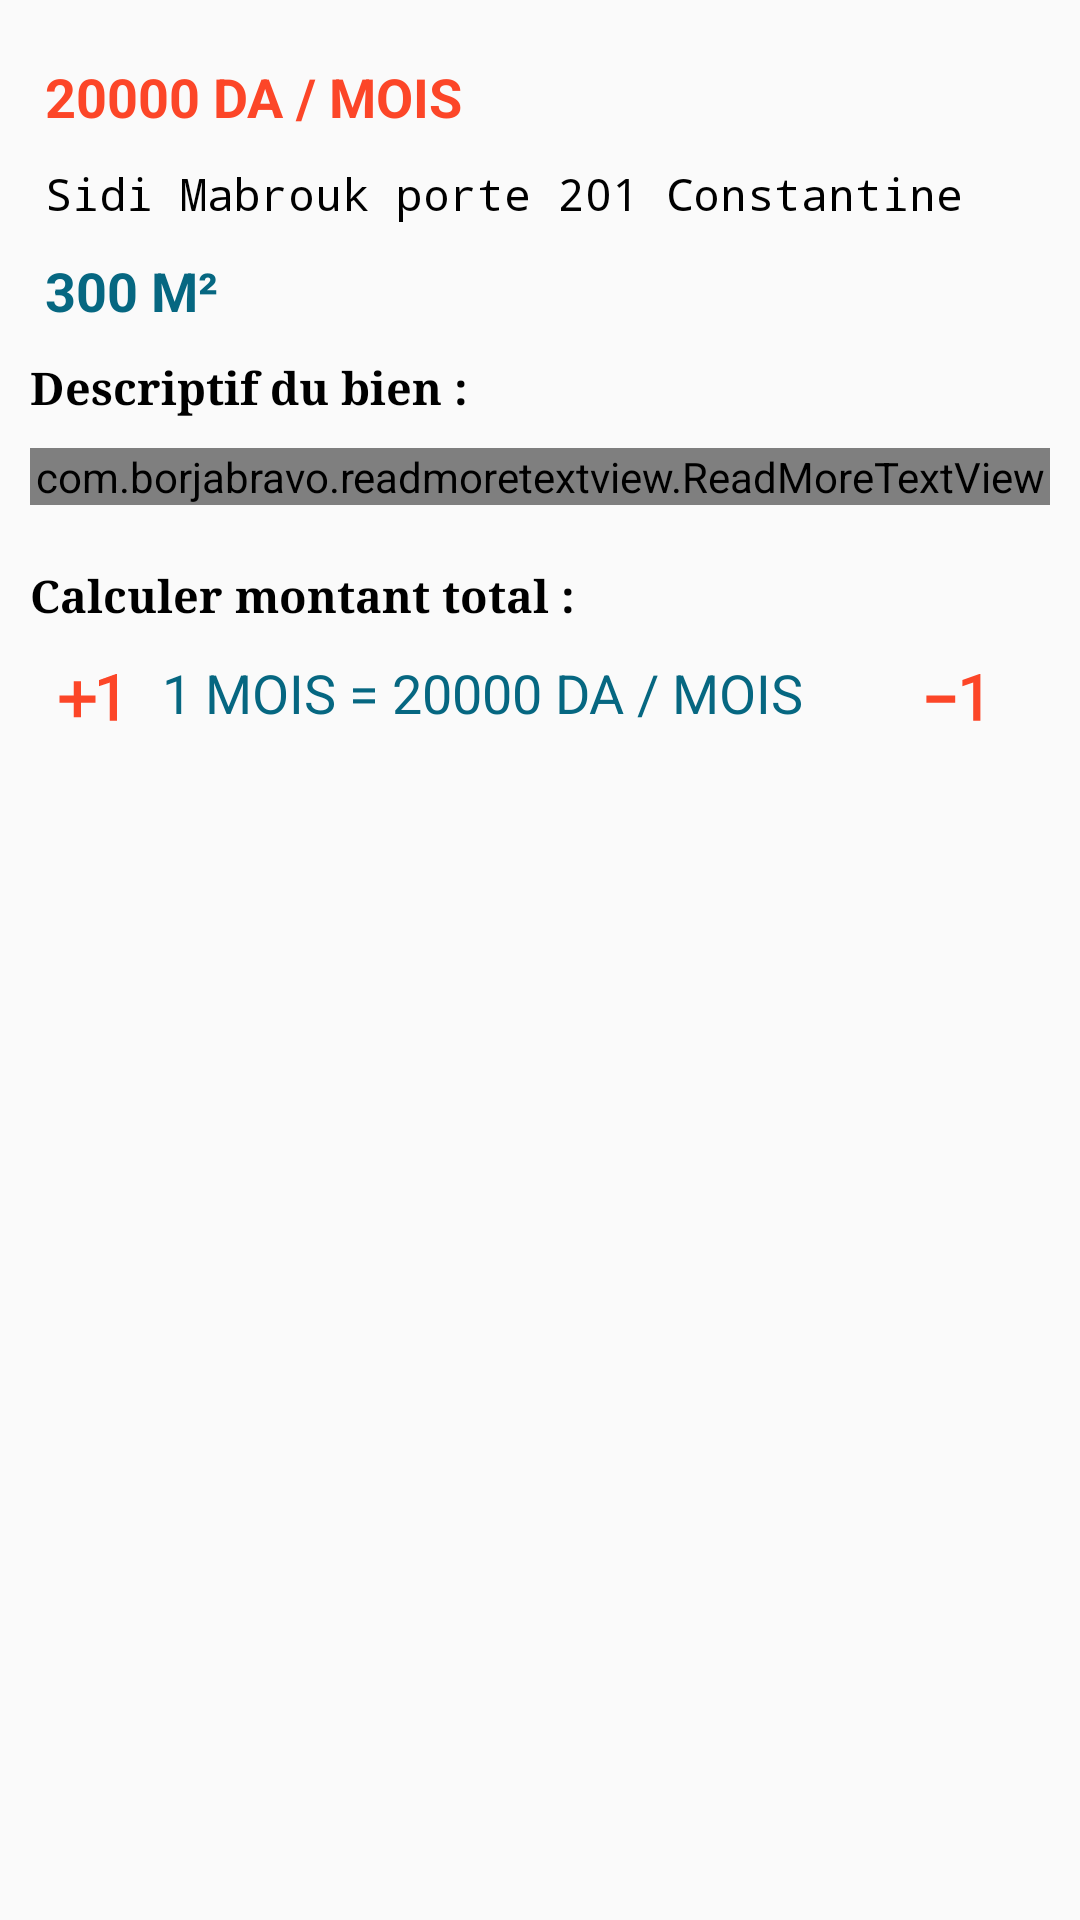

Where icons sit on this 1080w x 1920h app screen, as (x1, y1, x2, y2):
exposure neg: (926, 674, 981, 721)
exposure plus: (59, 674, 117, 721)
